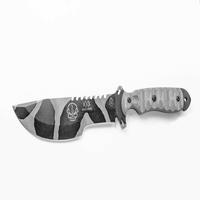knife: (7, 85, 192, 157)
